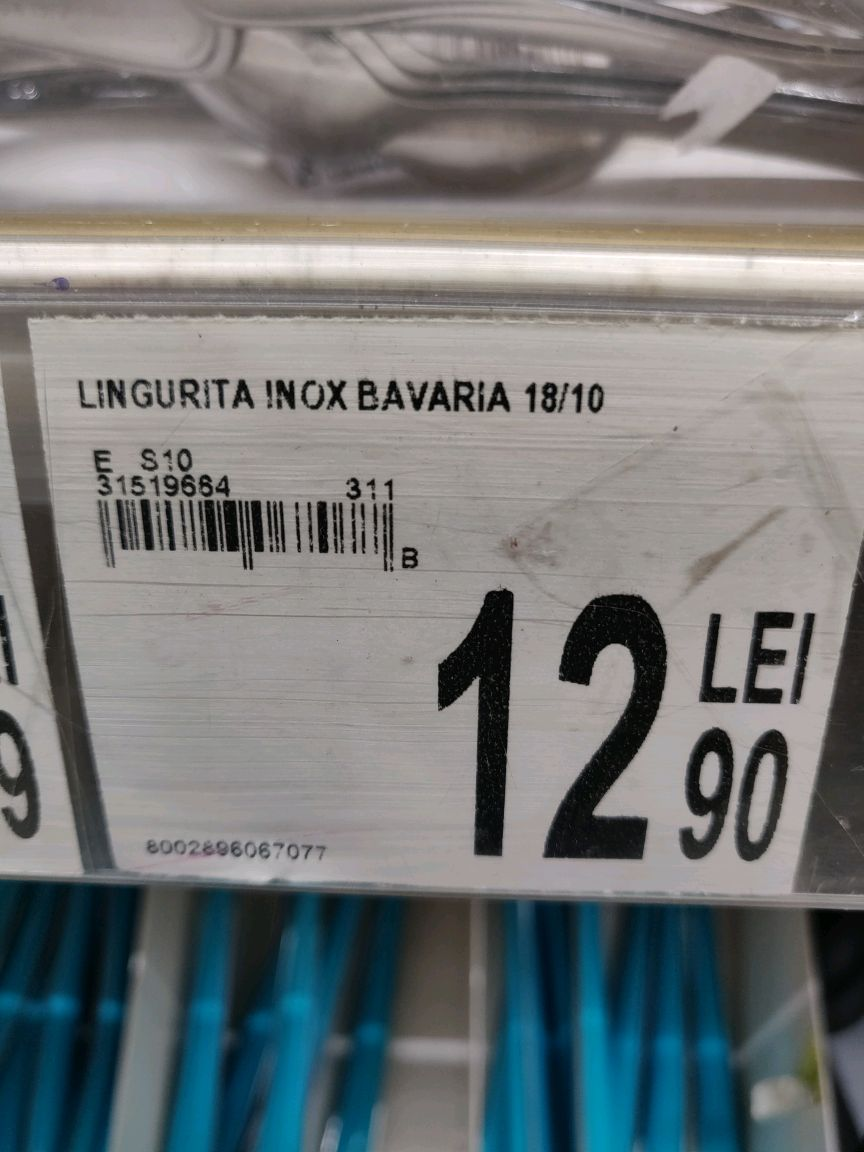price_bani: (664, 718, 798, 894)
price_lei: (425, 578, 677, 872)
price_tag: (16, 310, 856, 911)
product_id: (125, 828, 350, 878)
product_name: (57, 359, 622, 428)
